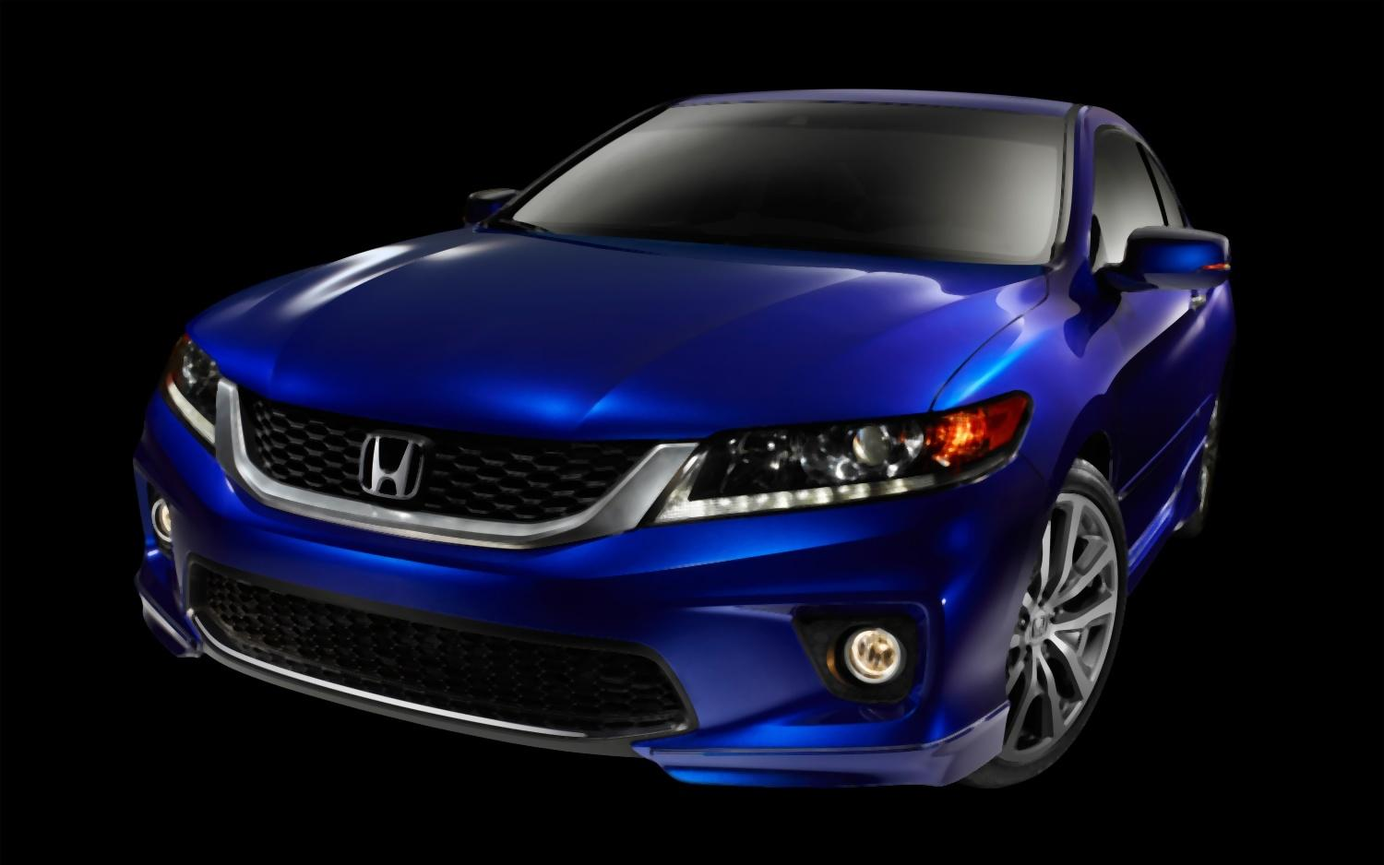Car hood: (180, 208, 1056, 440)
Fender - -F-L-: (1014, 252, 1135, 581)
Front bumper: (104, 464, 1037, 813)
Headlight - -L-: (630, 381, 1031, 539)
Headlight - -R-: (139, 314, 255, 463)
Passenger-s door - -F-L-: (1089, 97, 1215, 518)
Side bumper - -L-: (1119, 432, 1217, 589)
Side mirror - -L-: (1107, 210, 1236, 287)
Side mirror - -R-: (459, 176, 529, 237)
